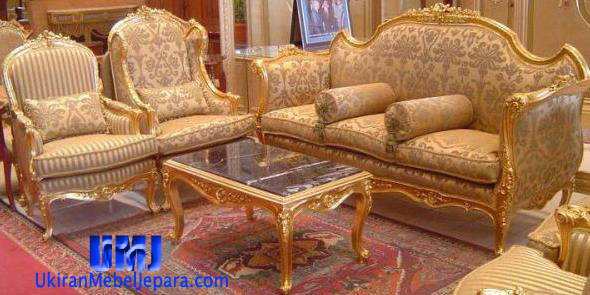Carving Table: (154, 144, 394, 295)
